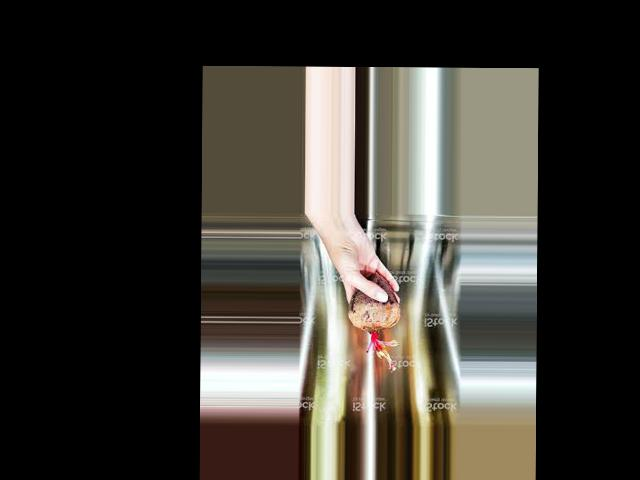beet: (348, 273, 400, 369)
